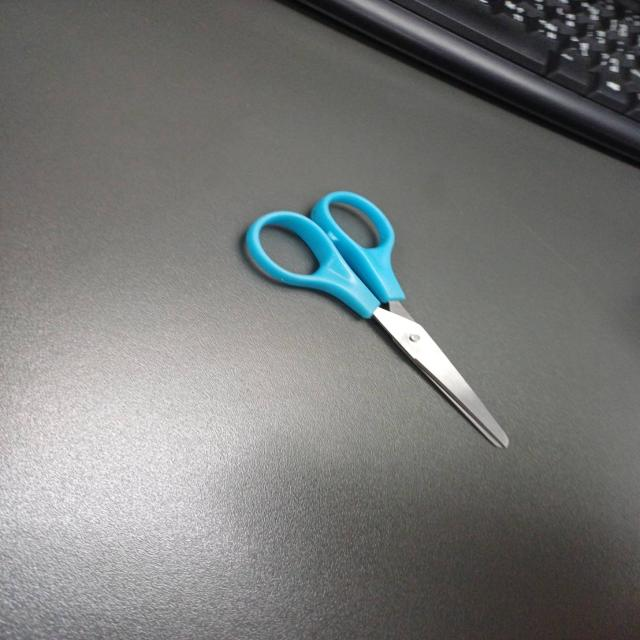scissors: (245, 190, 509, 449)
